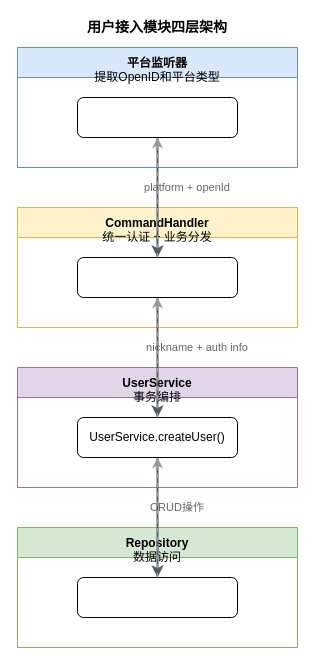
Image size: 315x665. Some labels were removed from this diagram. The shapes that lost their labels are listed below. From the top down, each one's box as (x1, y1, x2, y2) in pixels, then its label:
(76, 96, 238, 138): OneBotV11 / QQ / Web
(76, 256, 238, 298): CultivationCommandHandler
(76, 576, 238, 618): UserRepository UserAuthRepository
